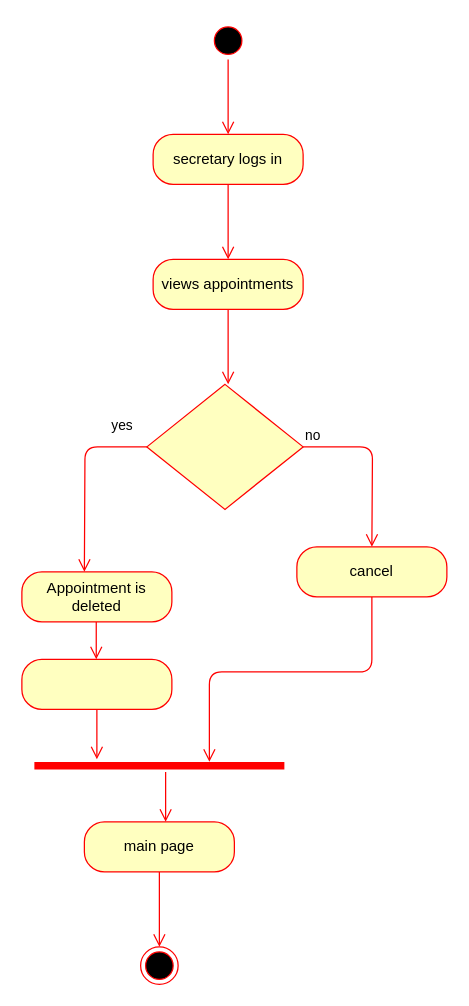
Some shapes in this 469 by 1006 pixel diagram are drawn without their labels. The shapes that lost their labels are listed below. From the top down, each one's box as (x1, y1, x2, y2) in pixels, then its label:
(146, 383, 303, 509): delete appointment
(21, 658, 172, 709): calendar undergoes changes
